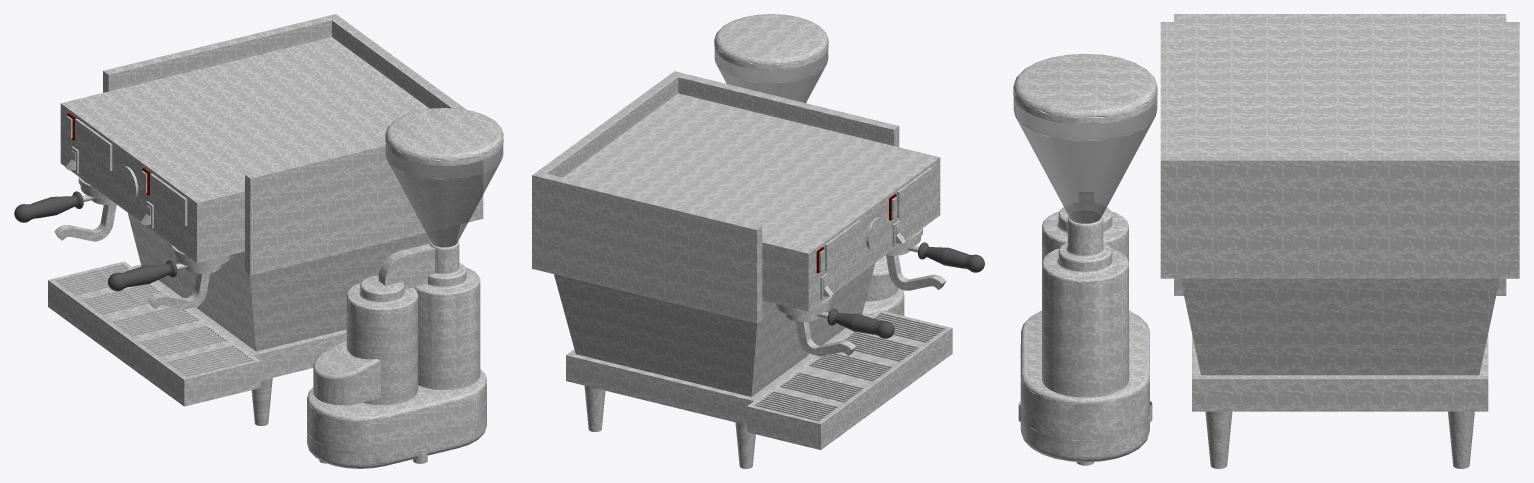
The model's file is 咖啡机2.fbx.
3 views of the same model, side by side, from view 1: azimuth 30°, elevation 25°; view 2: azimuth 150°, elevation 25°; view 3: azimuth 270°, elevation 25° (orthographic). The views are drawn at different scales.
Parts seen in each view (by area): view 1: generic_espresso_dwg1, Group_83, Group_81, Group_84, Group_85, Group_59; view 2: generic_espresso_dwg1, Group_83, Group_84, Group_81, Group_85, Group_91, Group_61, Group_60; view 3: generic_espresso_dwg1, Group_83, Group_84, Group_85, Group_61, Group_62.
Boxes of the visible parts, x1,y1,x2,y2 form: generic_espresso_dwg1: (14, 14, 503, 468); Group_83: (60, 37, 429, 262); Group_81: (48, 261, 260, 406); Group_84: (128, 213, 459, 351); Group_85: (132, 264, 346, 380); Group_59: (251, 378, 272, 425); generic_espresso_dwg1: (532, 14, 984, 356); Group_83: (563, 93, 940, 311); Group_84: (554, 263, 875, 396); Group_81: (747, 310, 952, 449); Group_85: (566, 313, 870, 424); Group_91: (754, 230, 762, 323); Group_61: (584, 385, 605, 431); Group_60: (735, 422, 755, 468); generic_espresso_dwg1: (1013, 22, 1519, 462); Group_83: (1174, 14, 1506, 154); Group_84: (1180, 278, 1499, 375); Group_85: (1192, 334, 1488, 411); Group_61: (1448, 411, 1474, 468); Group_62: (1205, 411, 1232, 468).
Bounding box in the file's own units: 616 × 510 × 638.
